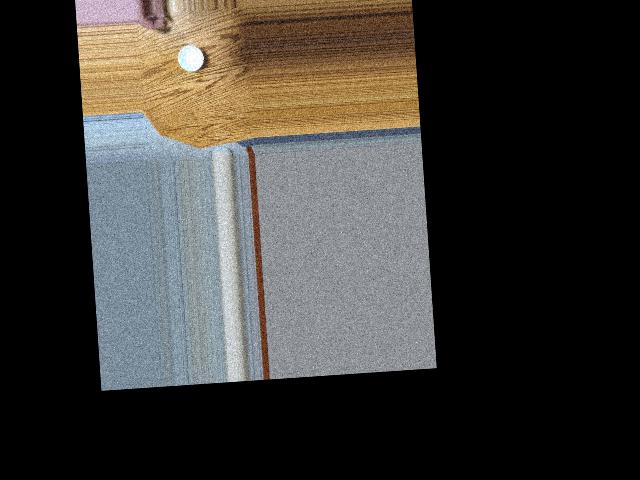cotage: (174, 42, 204, 74)
